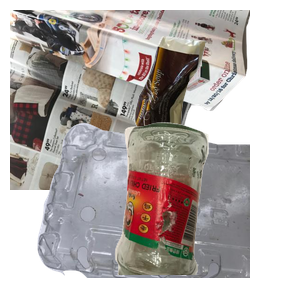glass: (112, 120, 300, 300)
paper: (10, 10, 250, 190)
plastic: (35, 120, 275, 300)
trash: (131, 34, 300, 177)
